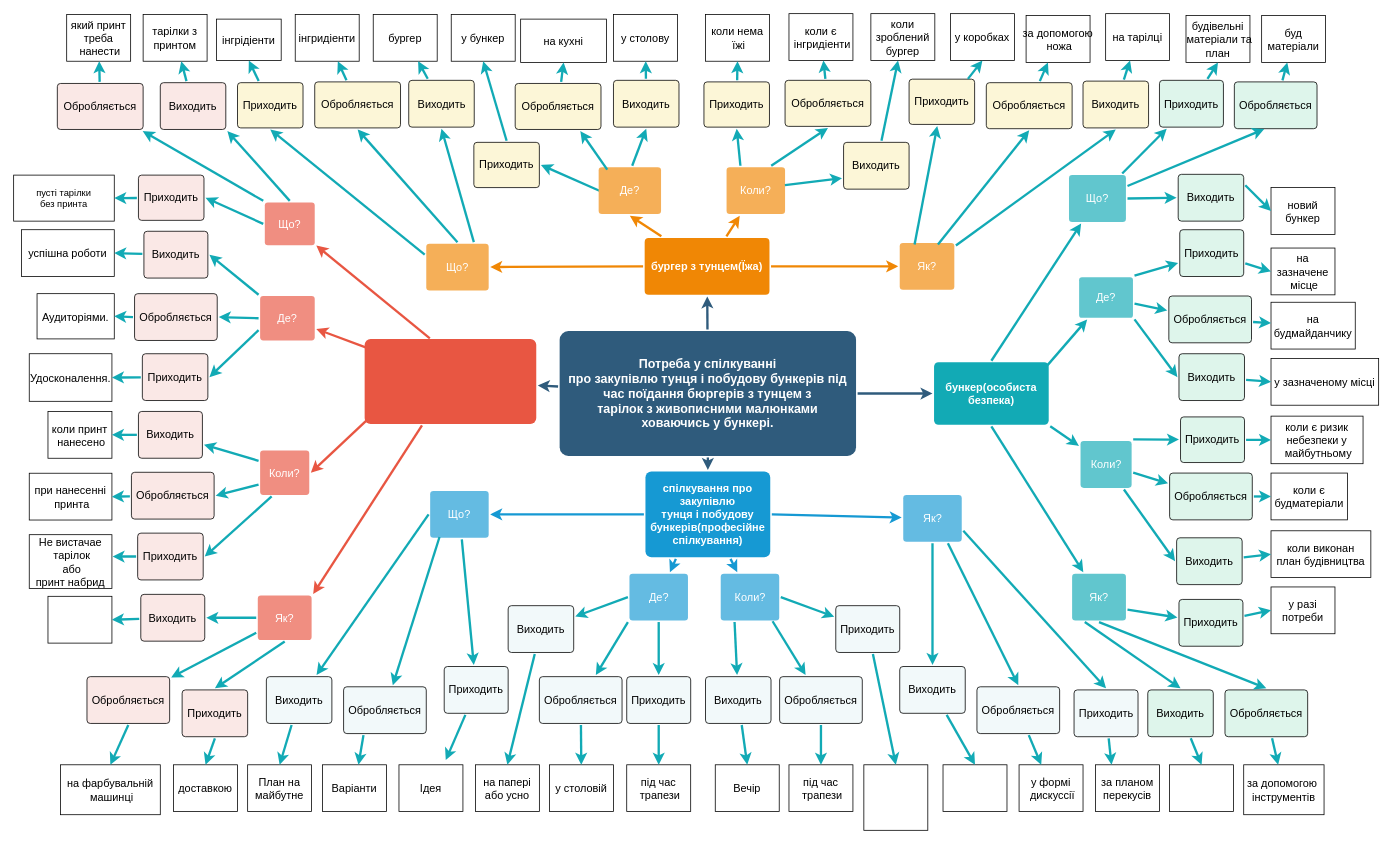
This 1392x844 diagram has some shape labels left out. Each missing label, with the centre of its shape:
"коли з'являються свободні гроші" belongs at pixel 895 797.
"тарілки для бюргерів з живописними малюнками(зацікавленість живописом)" belongs at pixel 450 381.
